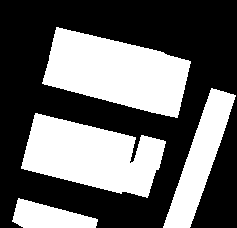parkingspot: (163, 88, 235, 228), (49, 27, 163, 83), (42, 55, 156, 111), (28, 113, 135, 167), (21, 140, 129, 193), (148, 53, 190, 117), (12, 198, 97, 228), (121, 161, 156, 197), (133, 135, 165, 169)
